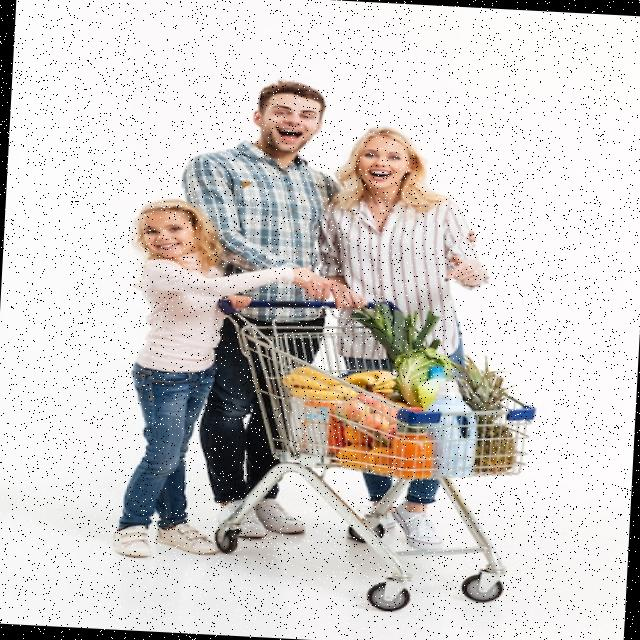Person: (165, 74, 352, 545), (302, 123, 498, 554), (114, 196, 318, 565)
